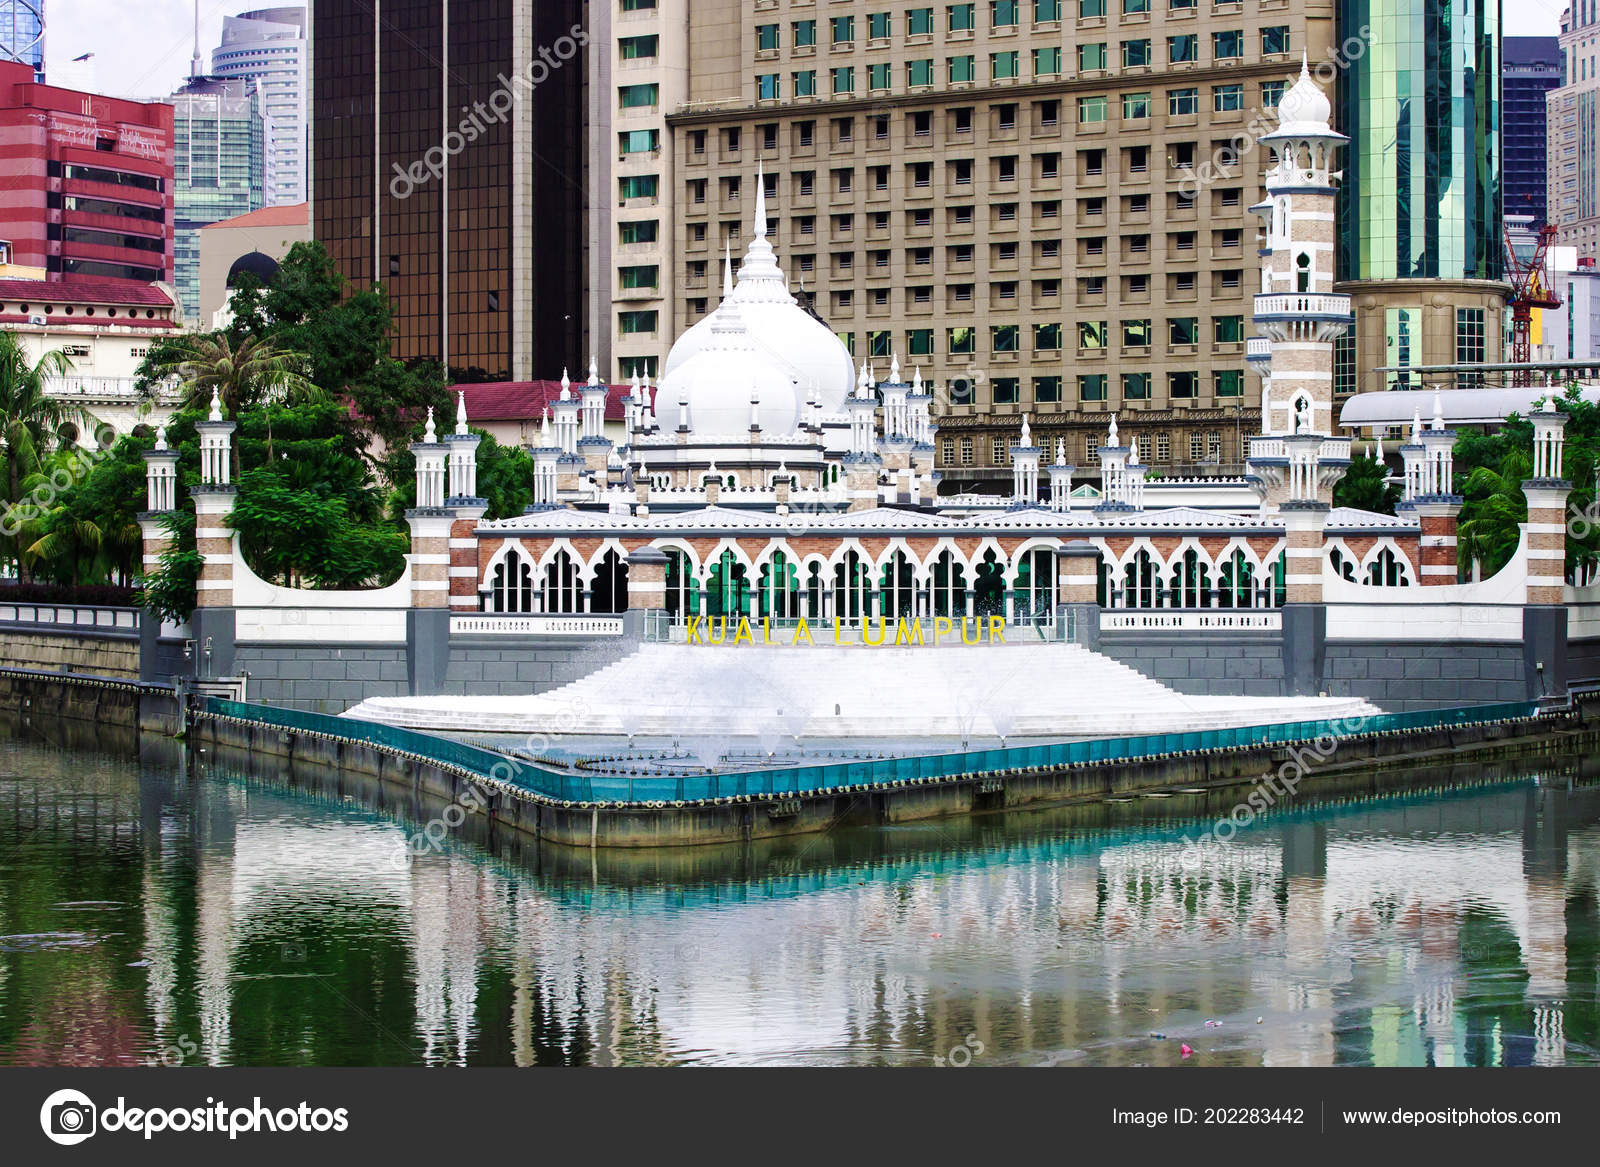Mosque: (227, 91, 1573, 776)
